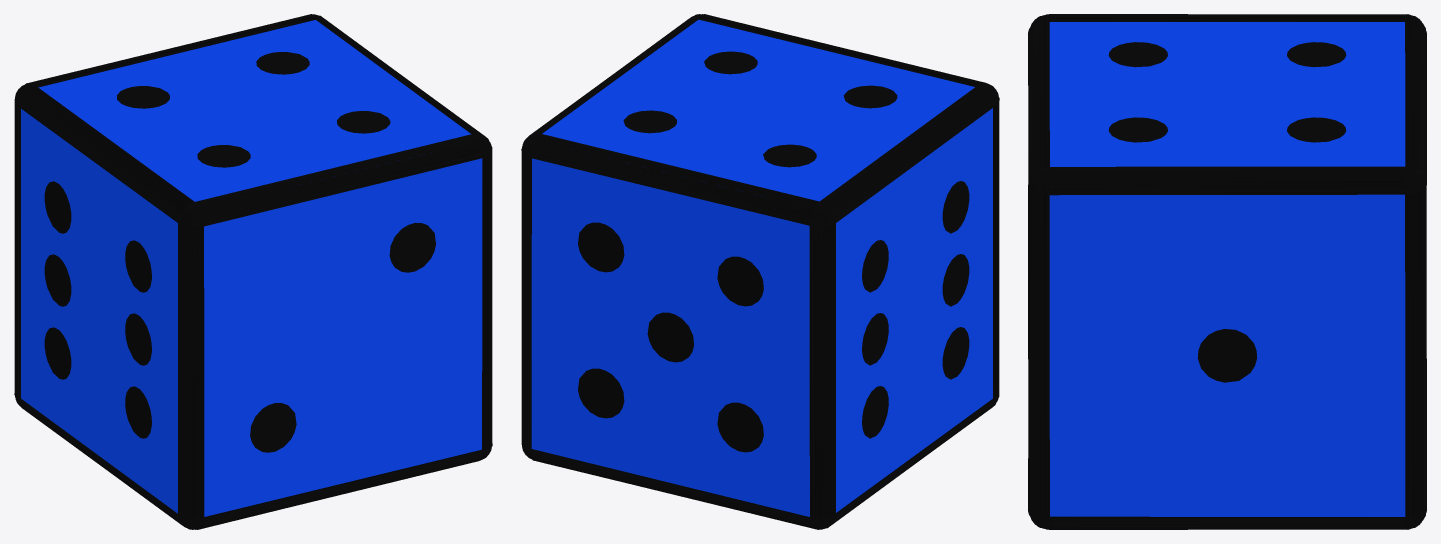
The picture shows the model from 3 angles, left to right: view 1: azimuth 30°, elevation 25°; view 2: azimuth 150°, elevation 25°; view 3: azimuth 270°, elevation 25°; orthographic projection. The views are drawn at different scales.
Visible parts, largest first — view 1: Cube, Cube.001, Face2.001, Face2.002, Face6.005, Face6.001, Face6.002, Face6.003, Face6.004, Face6.006, Face4.003, Face4.004 (+2 smaller); view 2: Cube, Cube.001, Face5.005, Face5.002, Face5.003, Face5.004, Face5.001, Face6.003, Face6.004, Face6.006, Face6.002, Face6.005 (+5 smaller); view 3: Cube, Cube.001, Face1, Face4.002, Face4.004, Face4.001, Face4.003.
Part boxes in pixels (box(x1,y1,x2,y2)): Cube: box(21, 20, 482, 516); Cube.001: box(14, 14, 492, 529); Face2.001: box(250, 403, 296, 452); Face2.002: box(389, 223, 435, 272); Face6.005: box(44, 327, 71, 379); Face6.001: box(44, 254, 71, 306); Face6.002: box(44, 181, 71, 233); Face6.003: box(125, 313, 151, 365); Face6.004: box(125, 240, 151, 292); Face6.006: box(125, 386, 151, 438); Face4.003: box(197, 145, 250, 167); Face4.004: box(256, 52, 309, 74); Cube: box(531, 19, 992, 516); Cube.001: box(521, 14, 999, 529); Face5.005: box(717, 402, 763, 452); Face5.002: box(647, 312, 693, 362); Face5.003: box(578, 368, 624, 418); Face5.004: box(717, 256, 763, 306); Face5.001: box(578, 222, 624, 272); Face6.003: box(942, 254, 969, 306); Face6.004: box(942, 181, 969, 233); Face6.006: box(942, 327, 969, 379); Face6.002: box(862, 240, 888, 292); Face6.005: box(862, 386, 888, 438); Cube: box(1049, 22, 1405, 516); Cube.001: box(1028, 14, 1426, 529); Face1: box(1197, 329, 1257, 382); Face4.002: box(1108, 117, 1167, 142); Face4.004: box(1287, 117, 1346, 142); Face4.001: box(1287, 42, 1346, 67); Face4.003: box(1108, 42, 1167, 67).
Bounding box in the file's own units: 2.01 × 2.01 × 2.01.
